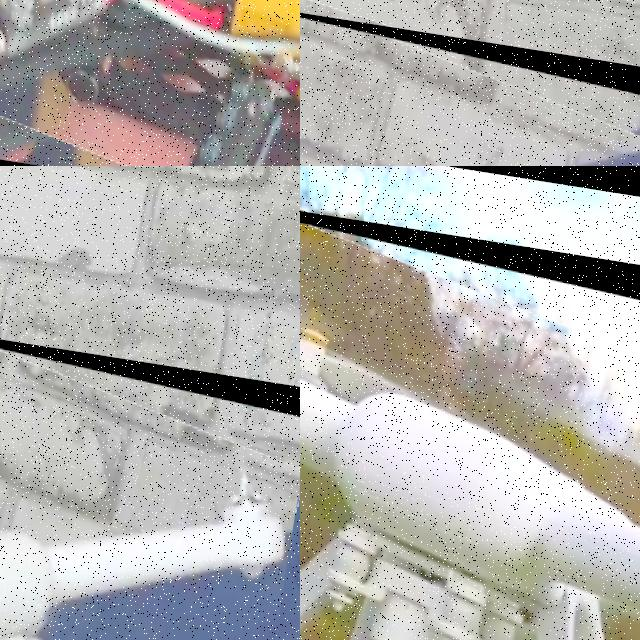drone: (300, 183, 640, 640), (0, 316, 300, 640), (300, 0, 640, 166), (0, 0, 300, 166)
